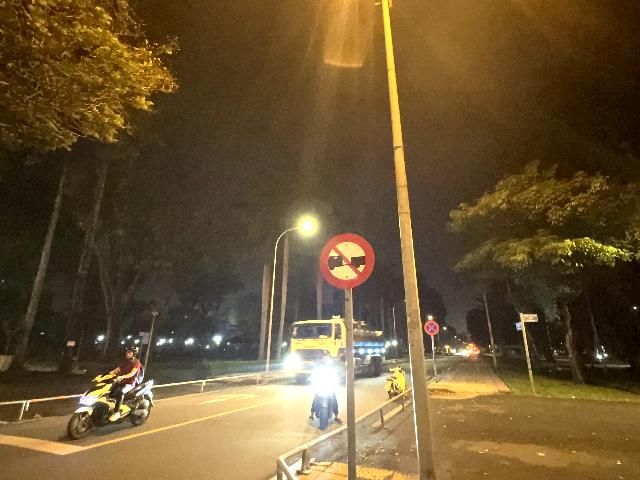cam-xe-somi-romooc: (319, 232, 375, 289)
